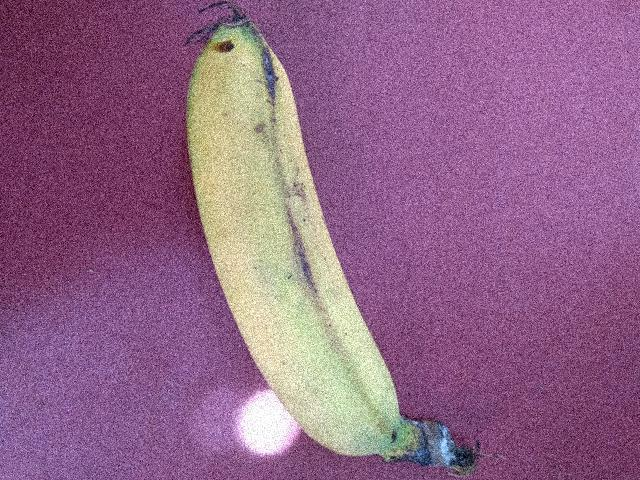ripe: (173, 36, 449, 444)
